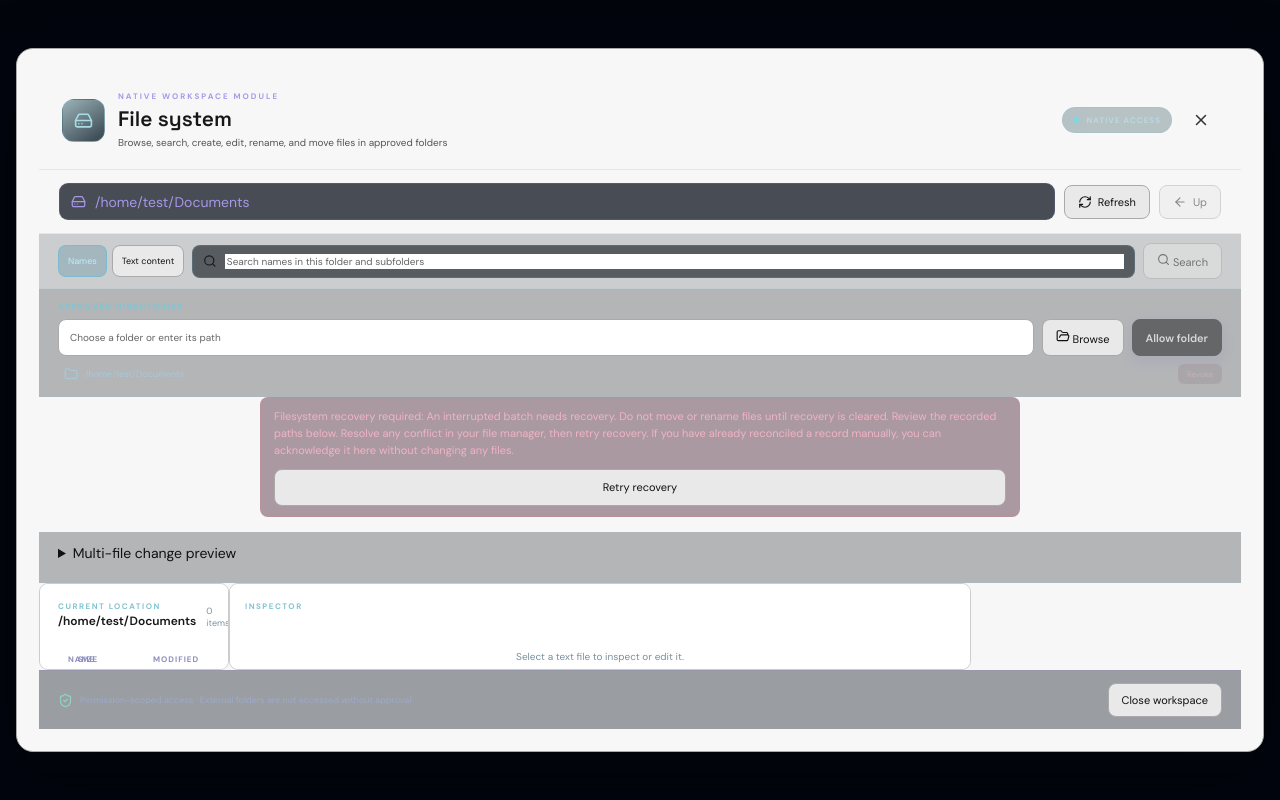
it: FileSystemPanel native workspace access › retries interrupted filesystem recovery and re-enables file operations
Click the button "Retry recovery": (640, 488) [274,469,1006,506]
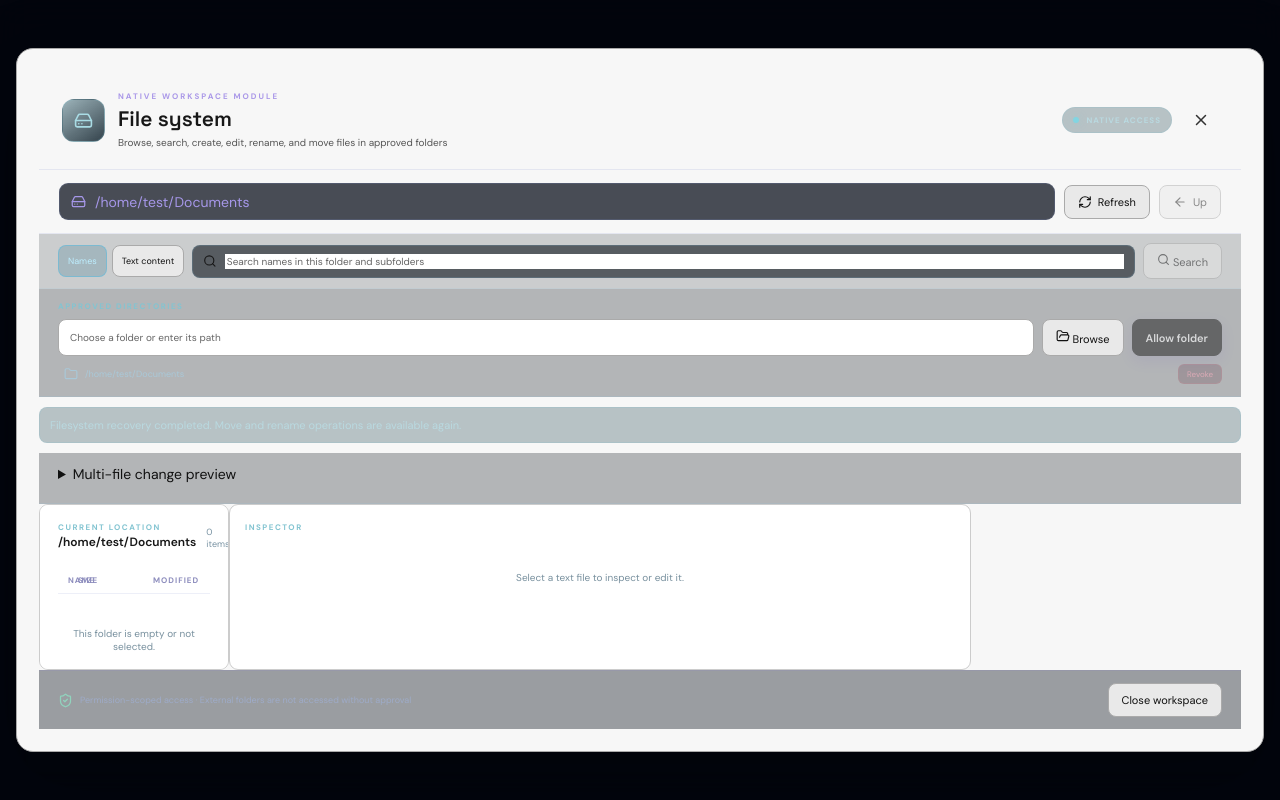
Check: the text "Filesystem recovery required" is gone
Check: the text "Filesystem recovery completed" is shown, box [50,418,461,432]
